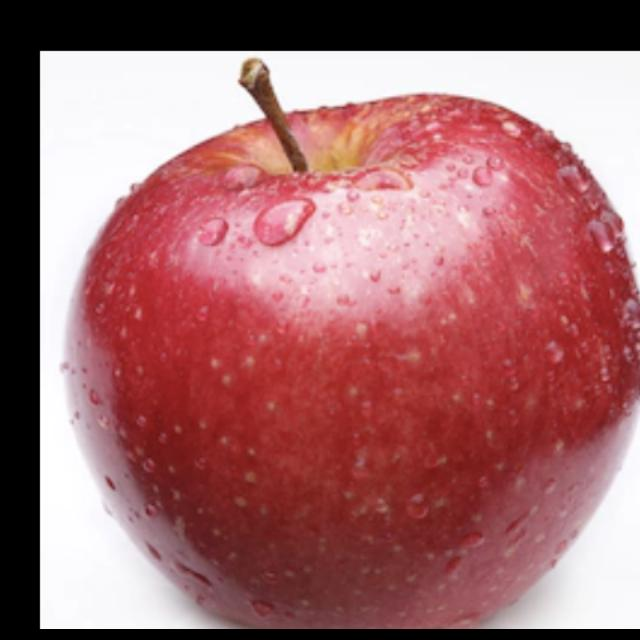Apel Segar: (58, 87, 640, 629)
